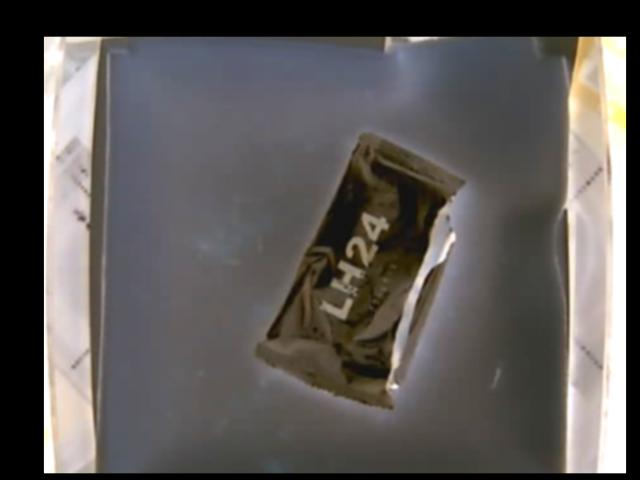Medicine: (257, 130, 466, 408)
